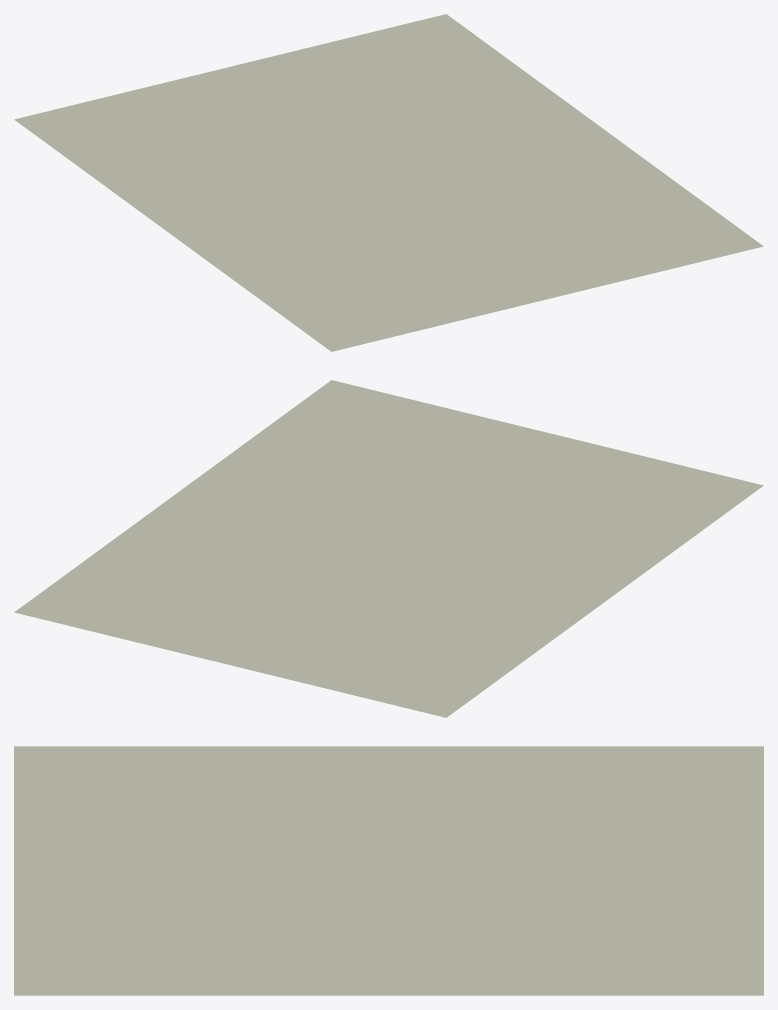
3 views of the same model, one above another, from view 1: azimuth 30°, elevation 25°; view 2: azimuth 150°, elevation 25°; view 3: azimuth 270°, elevation 25° (orthographic). The views are drawn at different scales.
Bounding box in the file's own units: 0.7861 × 0 × 1.
Materials: 1 (1 with a texture image).
